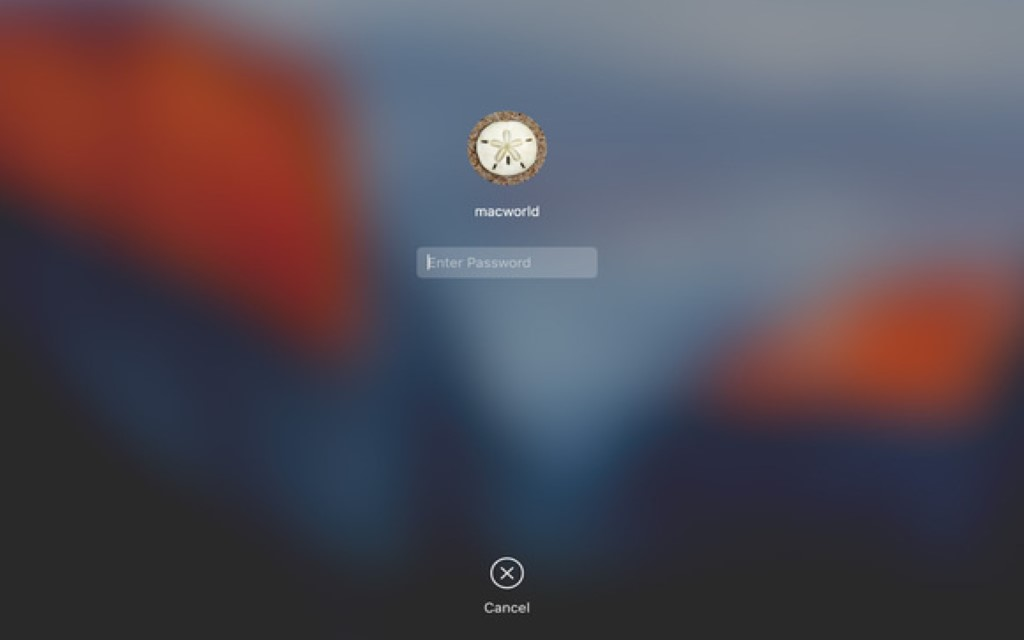label_password: (466, 252, 535, 272)
textbox: (416, 245, 597, 277)
